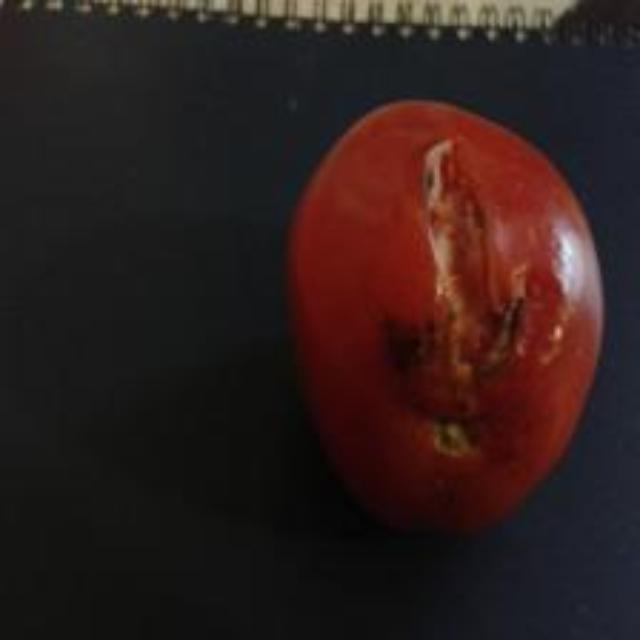defect: (284, 97, 605, 543)
